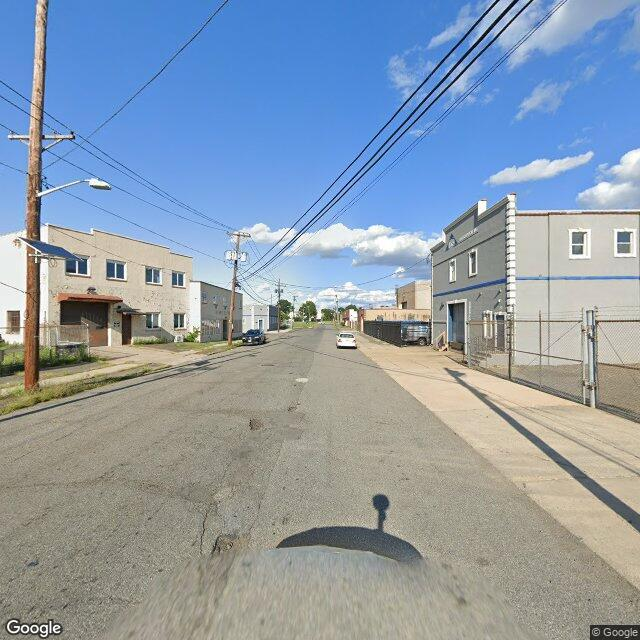pothole: (205, 527, 242, 562), (246, 416, 264, 434)
